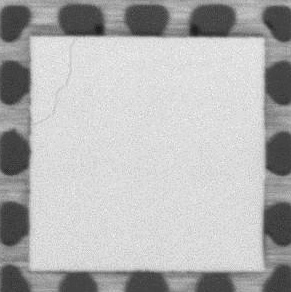DIE_CRACK: (32, 41, 77, 125)
